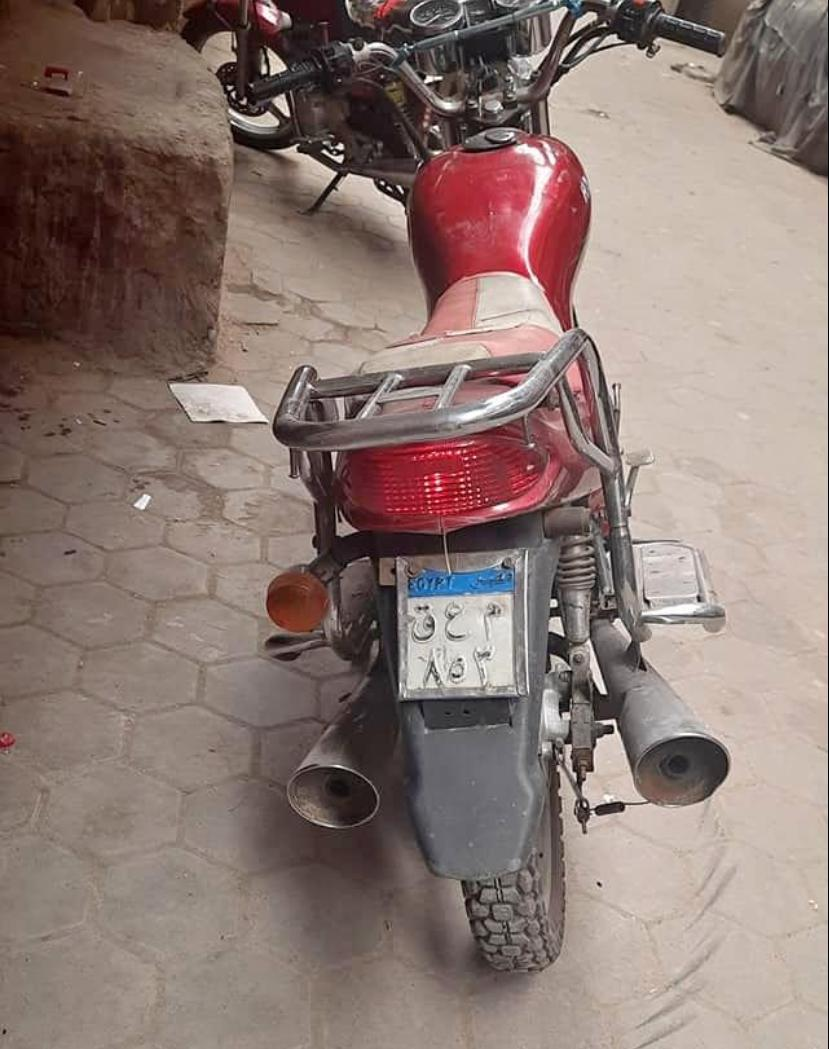License Plate: (401, 560, 524, 697)
